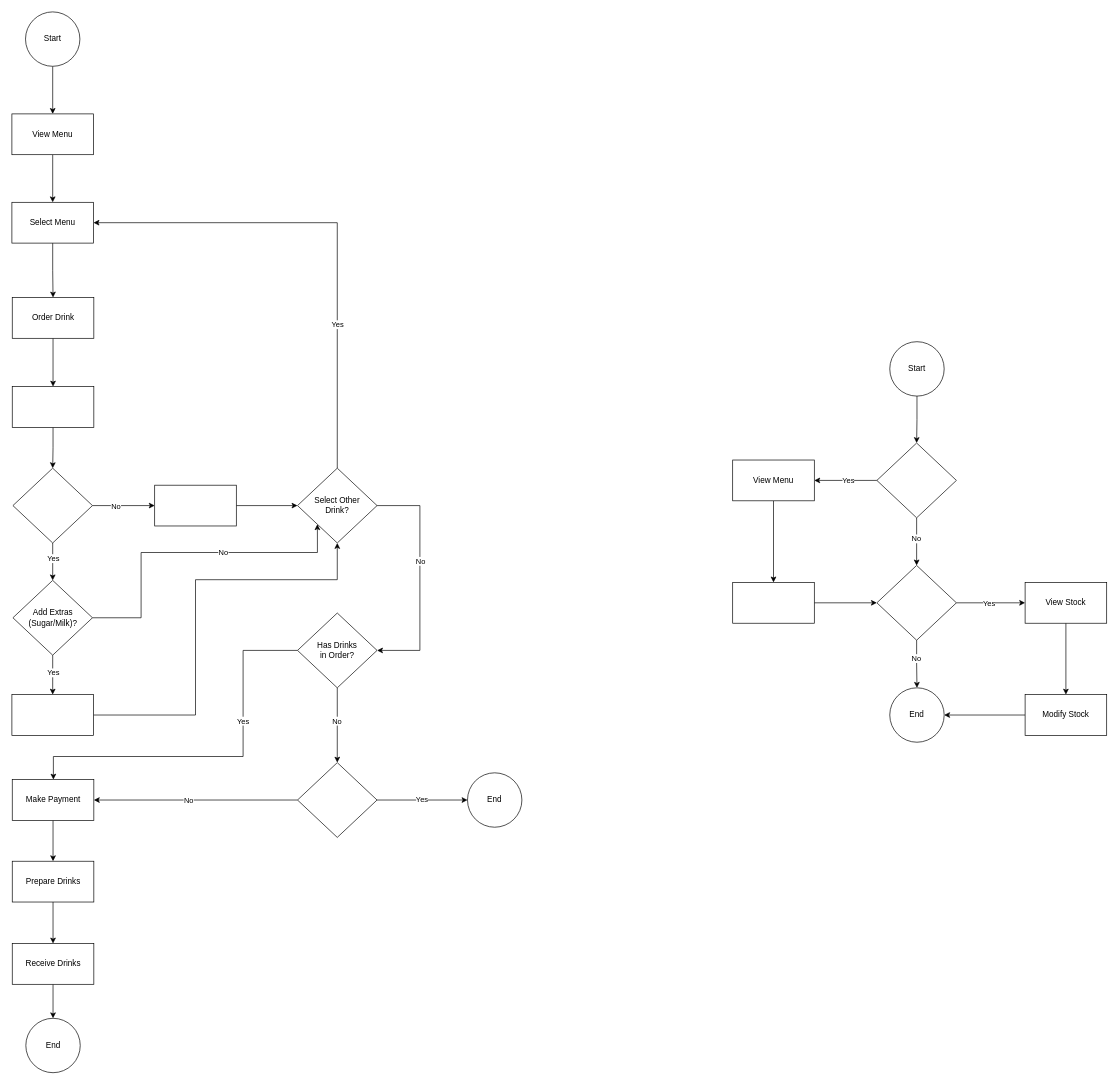
This 1119x1085 diagram has some shape labels left out. Here are the shapes that lost their labels. From the top down, the centre of each, then its label:
At (x=53, y=406): "Check Stock Availability".
At (x=916, y=480): "Manage Menu?".
At (x=52, y=505): "Drink in Stock?".
At (x=195, y=505): "Notify Drink Out of Stock".
At (x=773, y=602): "Modify Menu".
At (x=916, y=602): "Manage Stock?".
At (x=52, y=714): "Add Extras".
At (x=337, y=799): "Cancel Order?".
